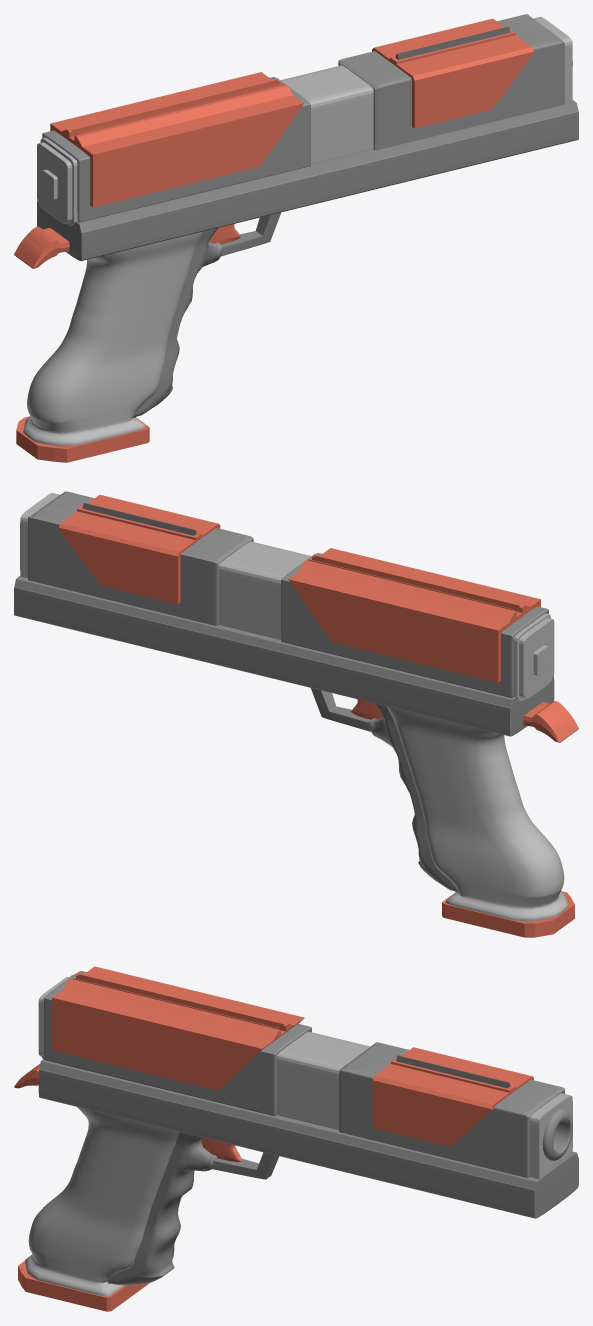
Rendered from TheCondor02.fbx.
The picture shows the model from 3 angles, top to bottom: view 1: azimuth 30°, elevation 25°; view 2: azimuth 150°, elevation 25°; view 3: azimuth 330°, elevation 25°; orthographic projection.
Parts seen in each view (by area): view 1: Slide, GripBase, GunBase, BarrelHousing, Grip, BottomCap, BackPeice, TriggerGaurd; view 2: Slide, GripBase, GunBase, BarrelHousing, Grip, BottomCap, BackPeice, TriggerGaurd; view 3: Slide, GunBase, GripBase, BarrelHousing, Grip, BottomCap, Barrel, TriggerGaurd, Trigger.
Part boxes in pixels (x1,y1,x2,y2): Slide: (42,14,564,222); GripBase: (23,231,204,446); GunBase: (37,100,578,260); BarrelHousing: (37,16,572,226); Grip: (133,227,223,417); BottomCap: (16,416,149,462); BackPeice: (14,226,69,268); TriggerGaurd: (220,212,281,256); Slide: (28,491,548,697); GripBase: (387,706,567,921); GunBase: (14,576,554,736); BarrelHousing: (20,493,554,701); Grip: (368,703,458,892); BottomCap: (442,891,574,937); BackPeice: (523,701,578,742); TriggerGaurd: (311,688,370,731); Slide: (44,966,564,1177); GunBase: (38,1059,578,1218); GripBase: (25,1107,179,1296); BarrelHousing: (38,974,572,1178); Grip: (107,1132,217,1285); BottomCap: (18,1260,149,1311); Barrel: (542,1108,572,1160); TriggerGaurd: (211,1152,279,1179); Trigger: (201,1137,241,1162).
Size of the model in its own units: 511 by 279 by 72.95.
